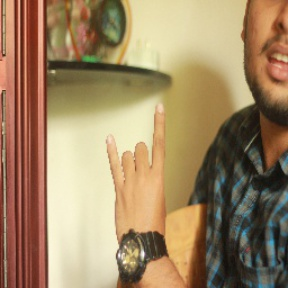V: (100, 99, 178, 236)
